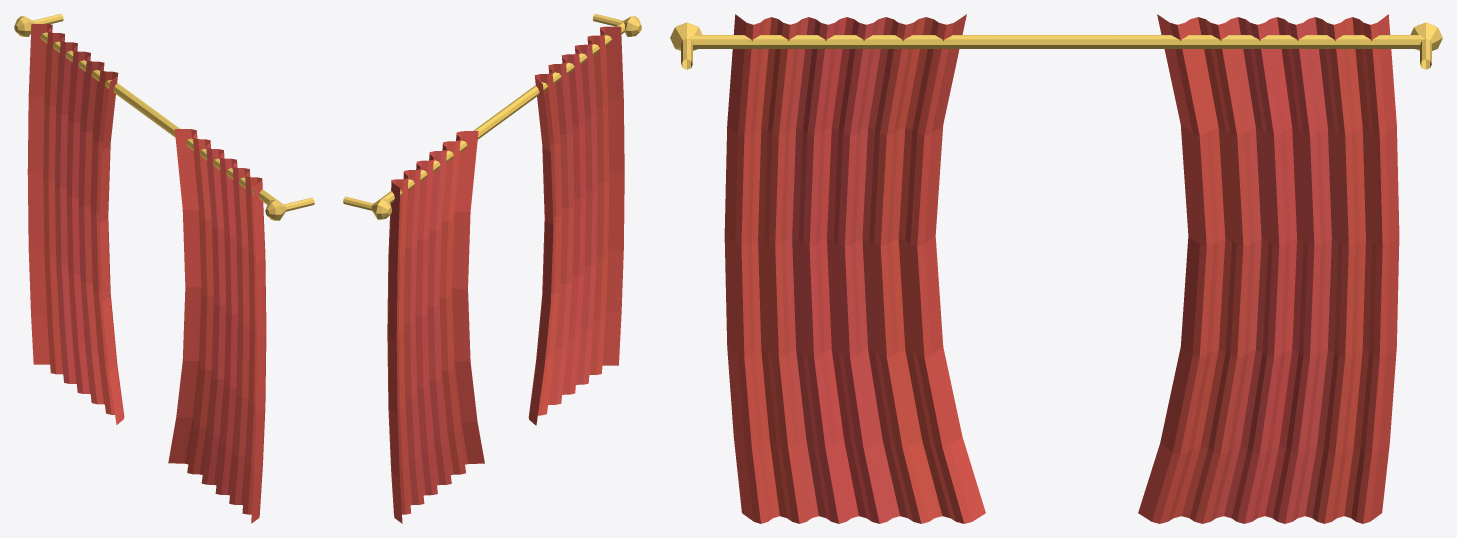
File: gardina_open_two.fbx
3 views of the same model, side by side, from view 1: azimuth 30°, elevation 25°; view 2: azimuth 150°, elevation 25°; view 3: azimuth 270°, elevation 25° (orthographic). The views are drawn at different scales.
Visible parts, largest first — view 1: Cube.002, Cube.009; view 2: Cube.002, Cube.009; view 3: Cube.002, Cube.009.
Part boxes in pixels (x1,y1,x2,y2): Cube.002: [27, 24, 266, 523]; Cube.009: [14, 14, 314, 220]; Cube.002: [387, 26, 624, 523]; Cube.009: [343, 14, 641, 219]; Cube.002: [724, 14, 1399, 523]; Cube.009: [670, 22, 1442, 69].
Bounding box in the file's own units: 83.51 × 596 × 836.
